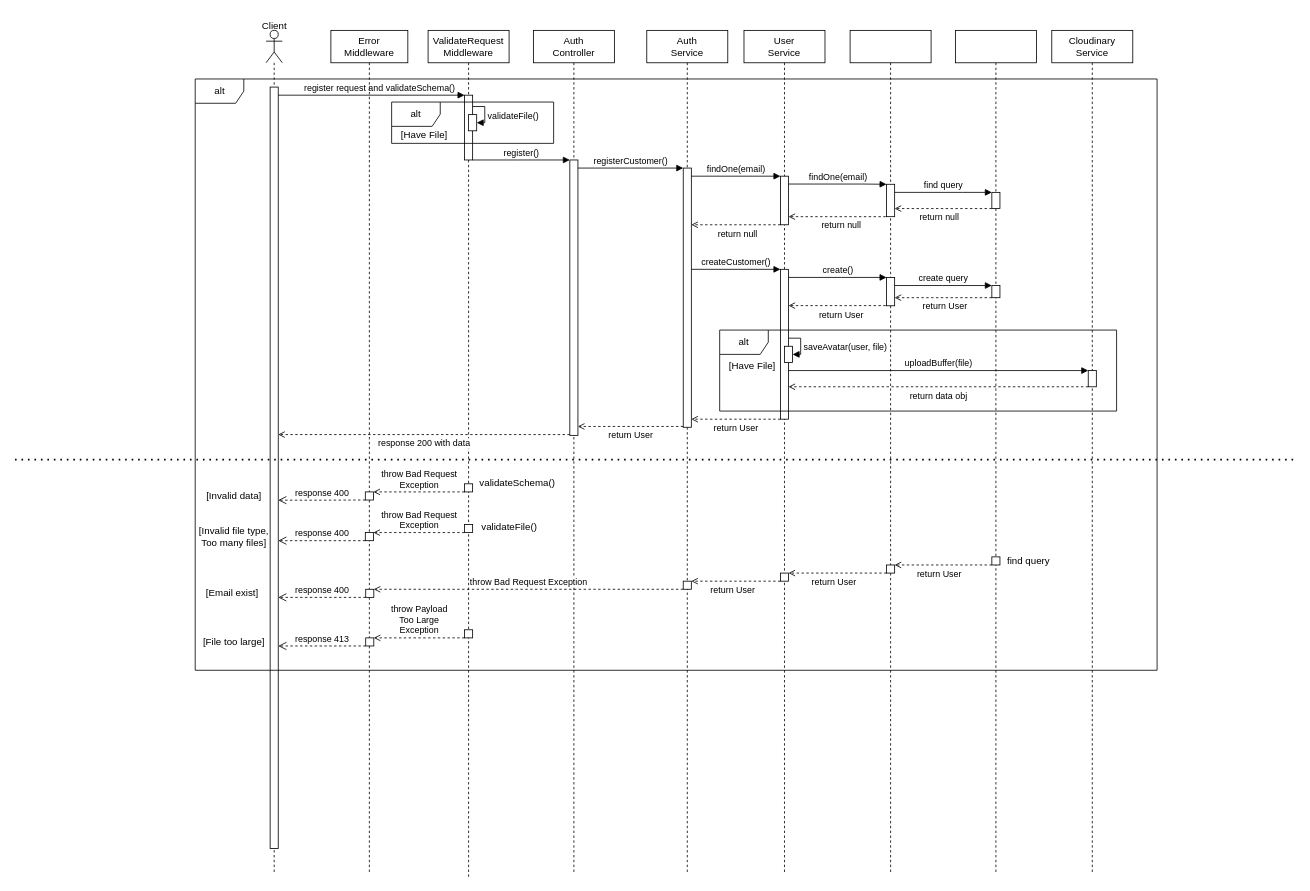
The diagram is 1310 pixels wide and 891 high, and some of its shapes have lost their labels. The shapes that lost their labels are listed below. From the top down, each one's box as (x1, y1, x2, y2) in pixels, then its label:
(849, 30, 931, 873): User Schema
(955, 30, 1036, 873): Database
